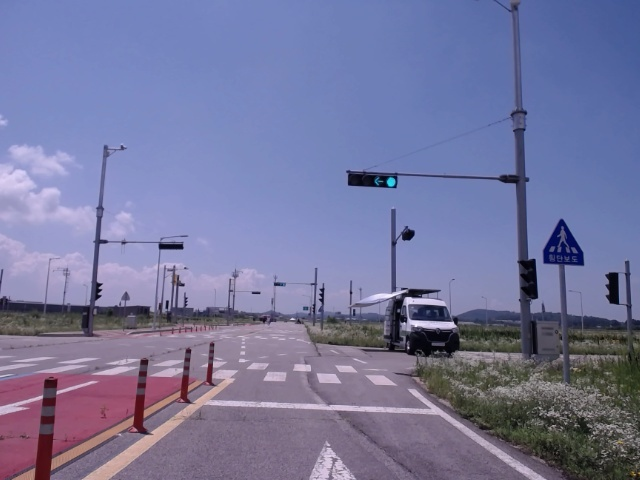all_green_4: (349, 171, 396, 188)
